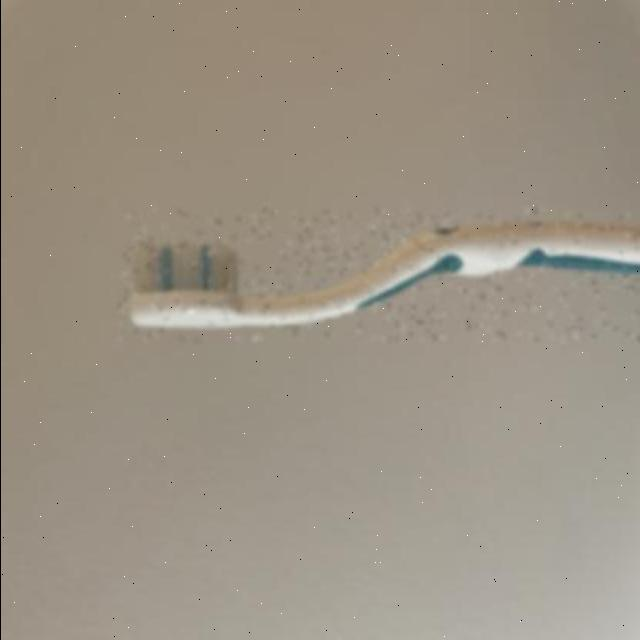toothbrush: (116, 209, 640, 341)
